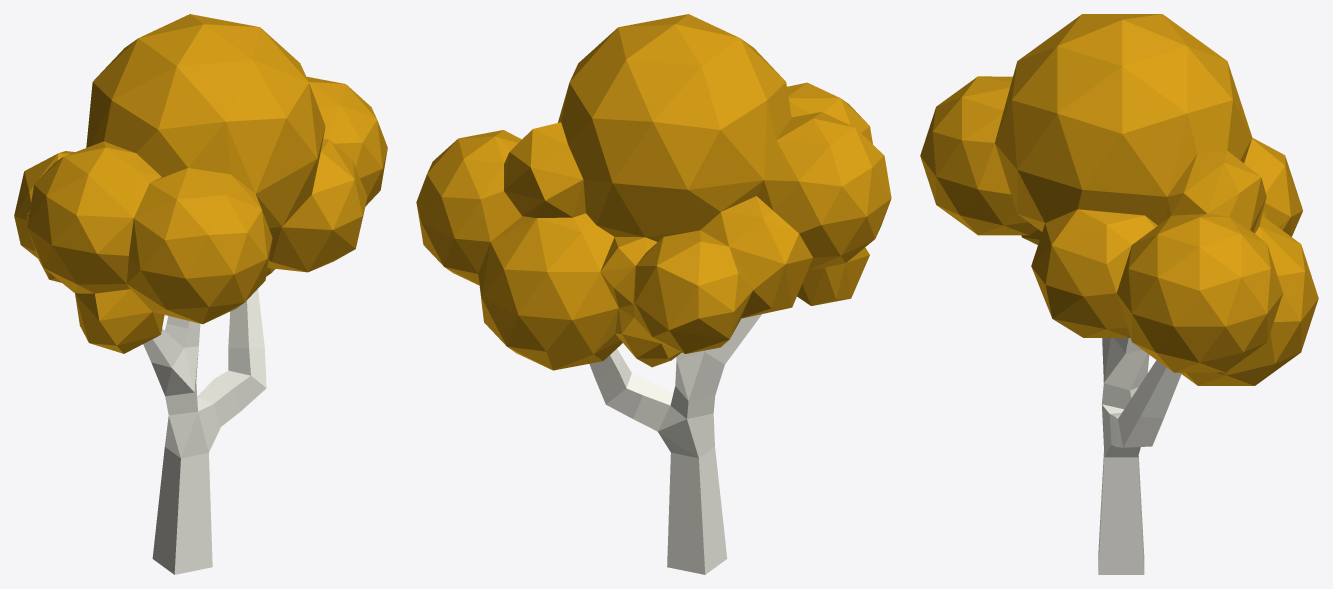
File: syksy_koivu1.fbx
3 views of the same model, side by side, from view 1: azimuth 30°, elevation 25°; view 2: azimuth 150°, elevation 25°; view 3: azimuth 270°, elevation 25° (orthographic). The views are drawn at different scales.
Visible parts, largest first — view 1: Icosphere, Cube; view 2: Icosphere, Cube; view 3: Icosphere, Cube.
Part boxes in pixels (x1,y1,x2,y2): Icosphere: (14, 14, 387, 353); Cube: (143, 289, 266, 574); Icosphere: (416, 14, 891, 370); Cube: (589, 314, 761, 574); Icosphere: (920, 14, 1318, 385); Cube: (1098, 338, 1181, 574).
Size of the model in its own units: 795 by 1033 by 671.
